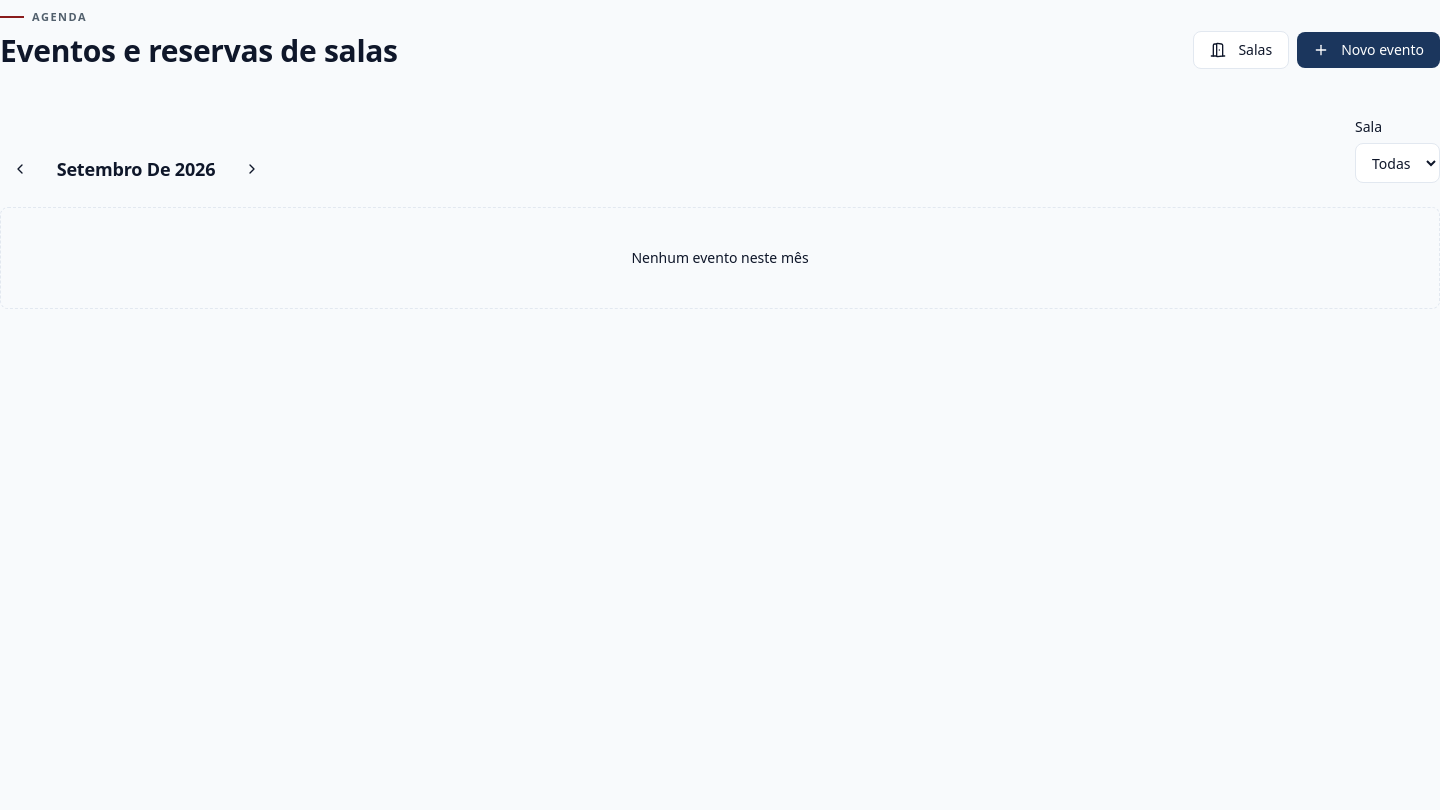
Test case: Agenda › sem salas cadastradas
Click the button "Salas".
click(1241, 50)  # box x1=1193 y1=31 x2=1289 y2=69
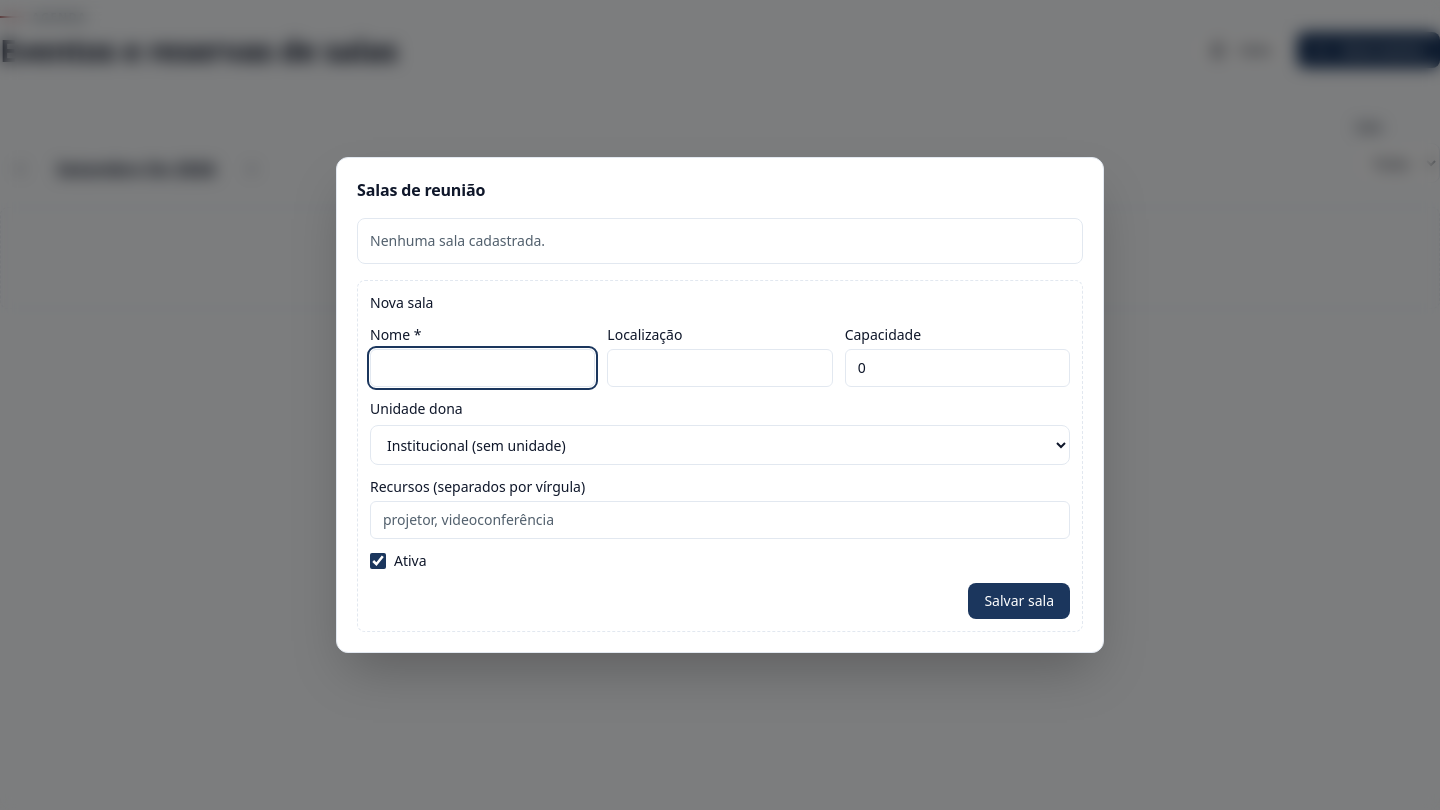
expect the list item "Nenhuma sala cadastrada." is shown: met, box x1=370 y1=231 x2=545 y2=250
